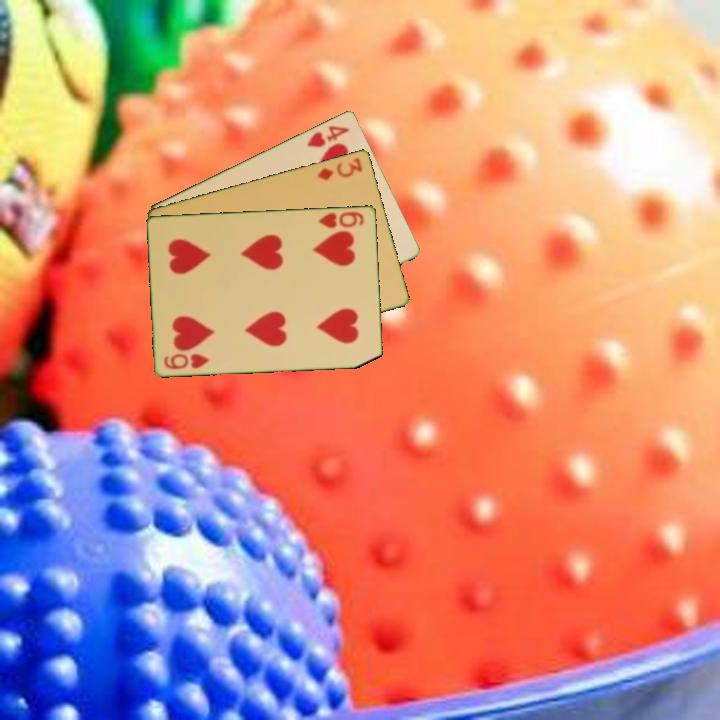3d: (314, 154, 365, 183)
4h: (303, 122, 352, 150)
6h: (315, 208, 367, 230), (161, 350, 212, 372)
